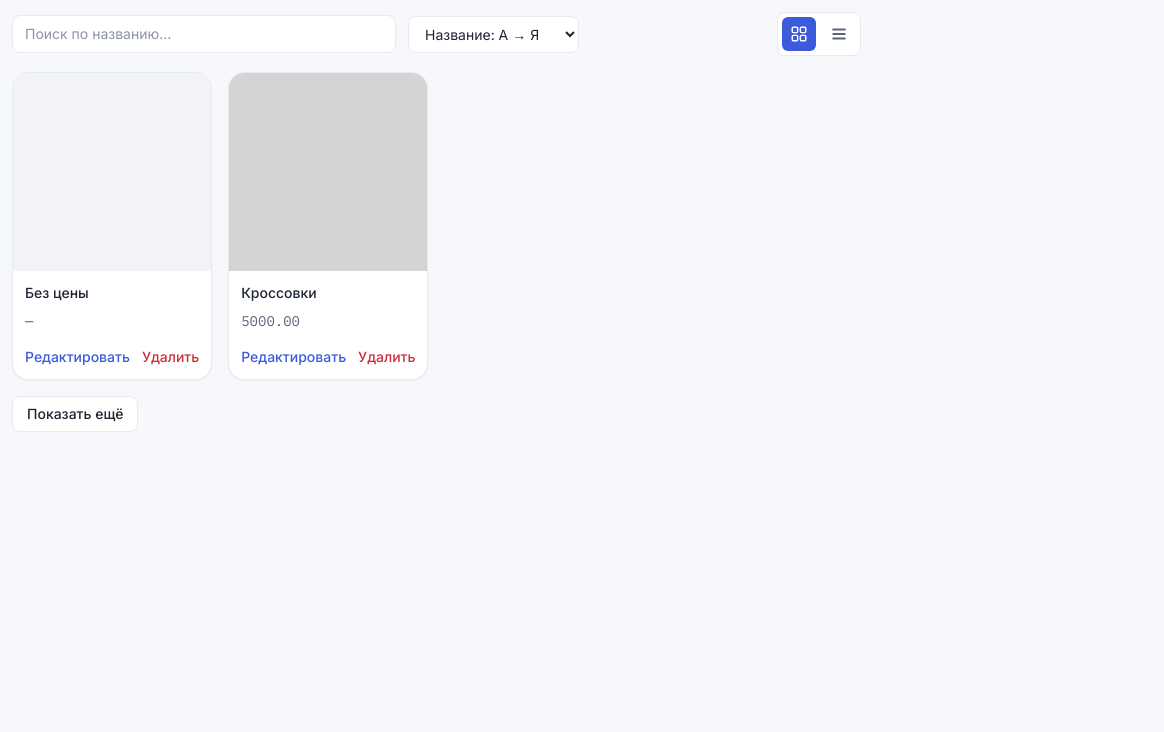
shows an error and keeps "Показать ещё" visible when loading more fails
What coordinates should you click on to do the following:
click the button "Показать ещё"
I would click on:
 (75, 414)
Its box is x1=12 y1=396 x2=138 y2=432.
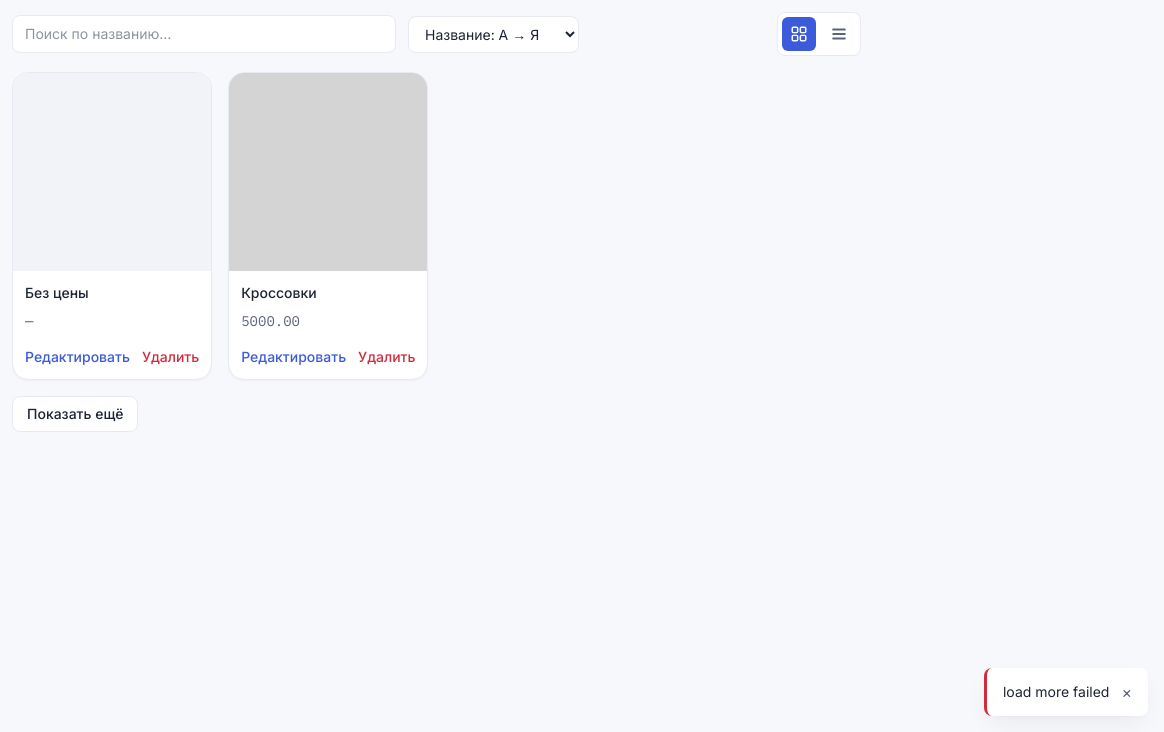
Check: the message shows "load more failed", box x1=1003 y1=683 x2=1109 y2=700
